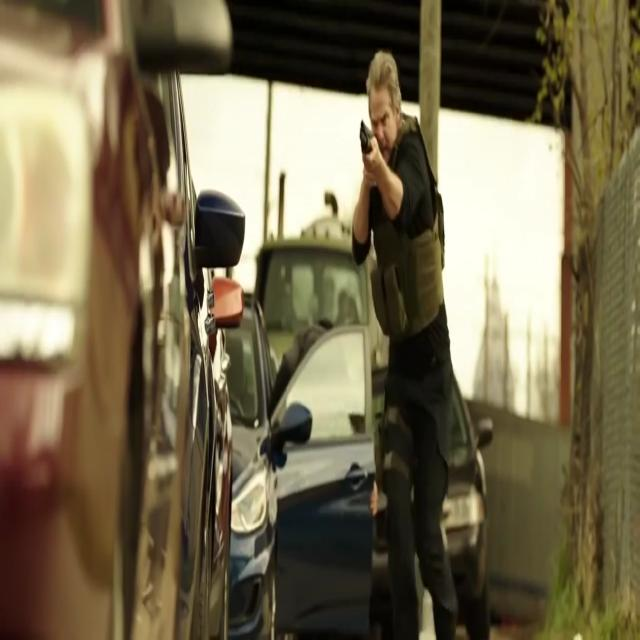Weapon: (346, 110, 379, 206)
